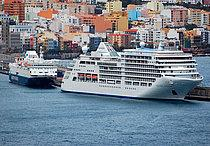Ship: (60, 39, 206, 105), (8, 48, 61, 91)
